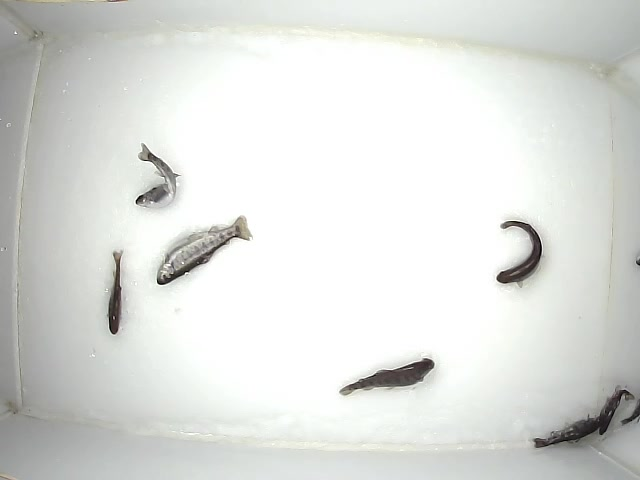fish: (152, 214, 255, 288), (336, 354, 439, 398), (132, 139, 182, 211), (494, 220, 544, 287), (532, 416, 600, 450), (598, 385, 633, 438), (106, 248, 127, 335)
